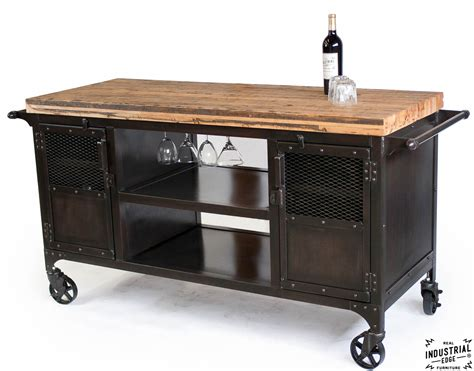Carts: (6, 75, 471, 371)
